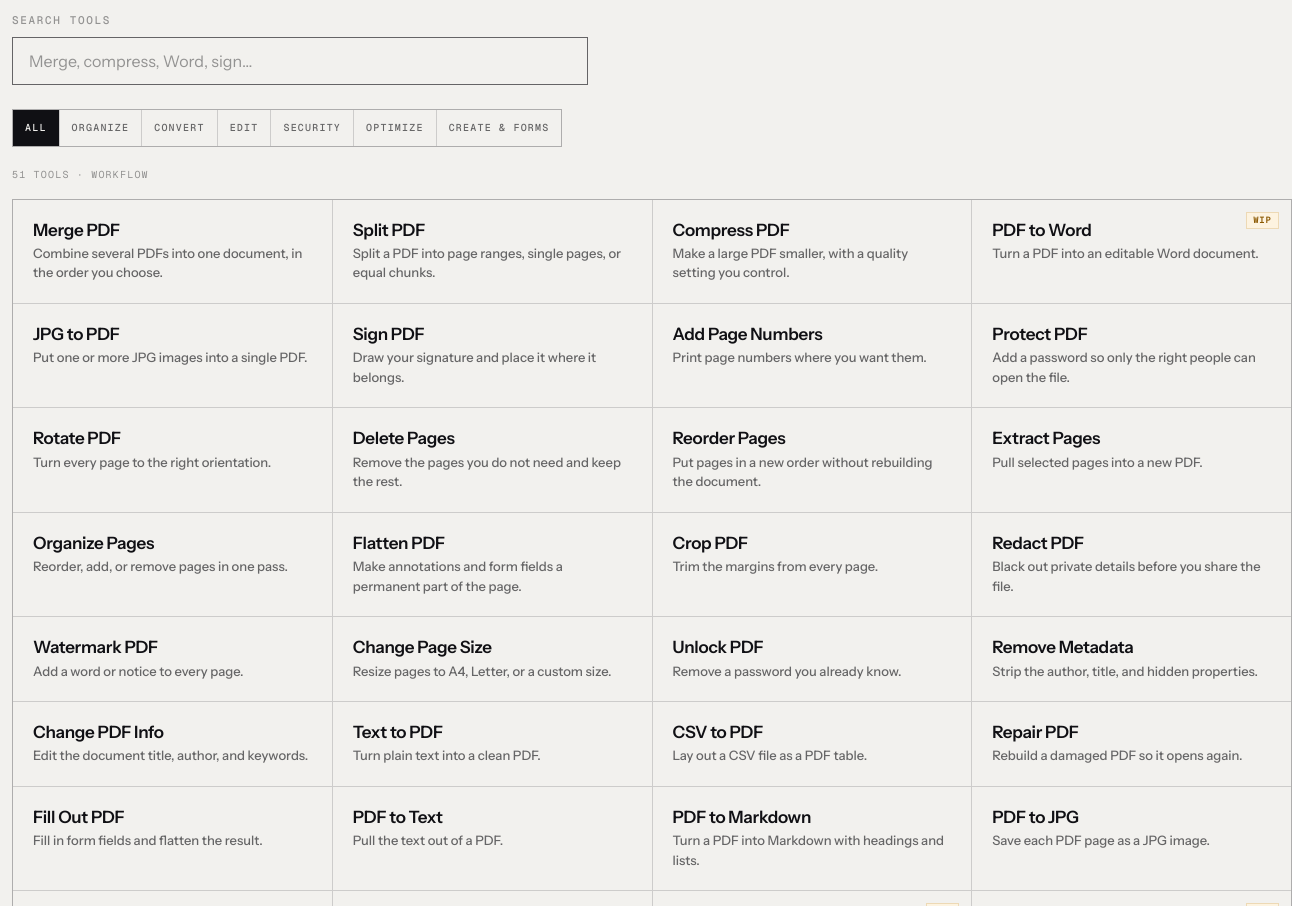
Test: ToolsFilter › shows conversion direction filters for Convert
Click the button "Convert" at (179, 128), box x1=142 y1=110 x2=217 y2=146
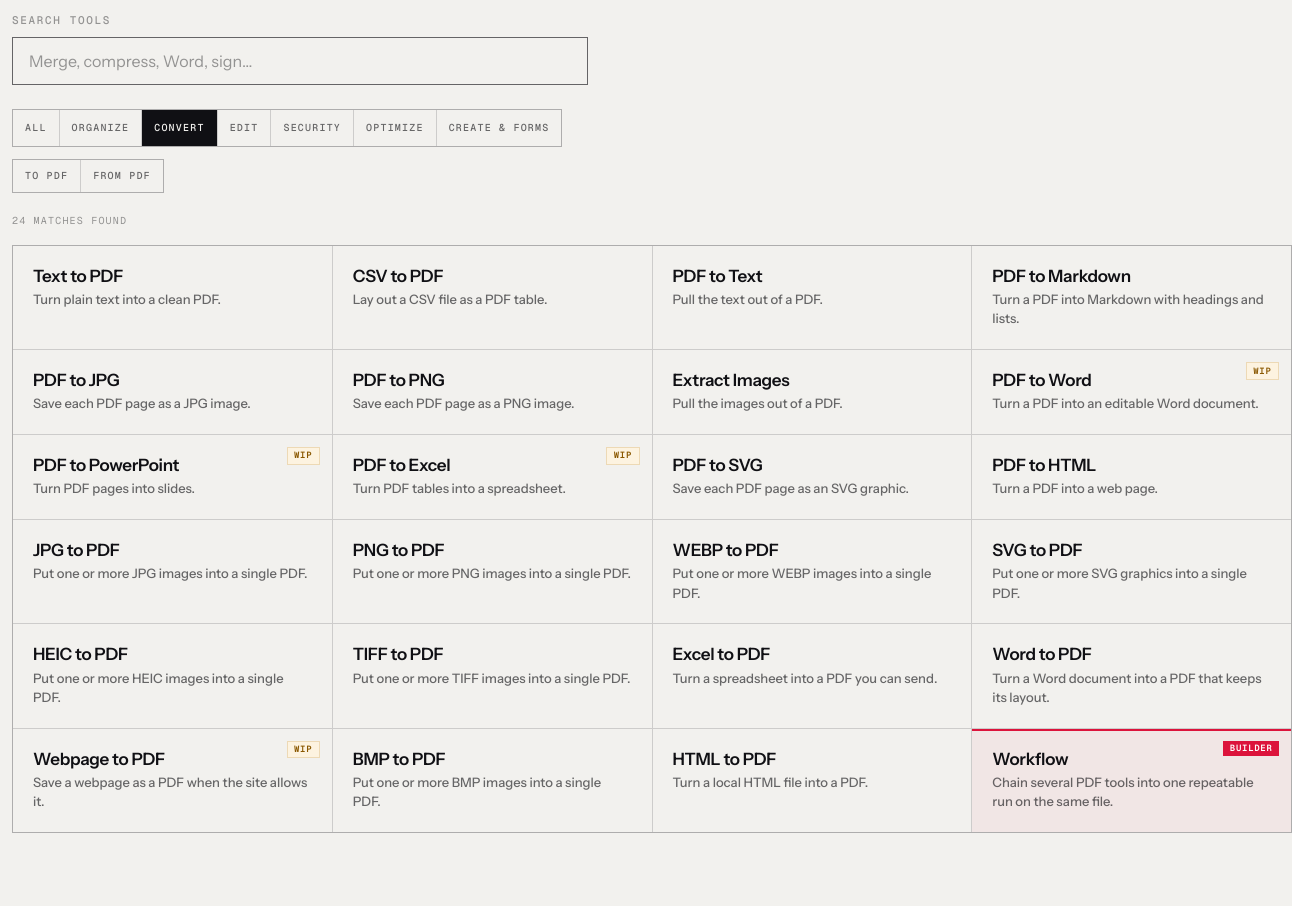
Expected: the button "To PDF" is shown, x1=13 y1=160 x2=80 y2=192
Now the button "From PDF" is shown, box x1=81 y1=160 x2=163 y2=192
